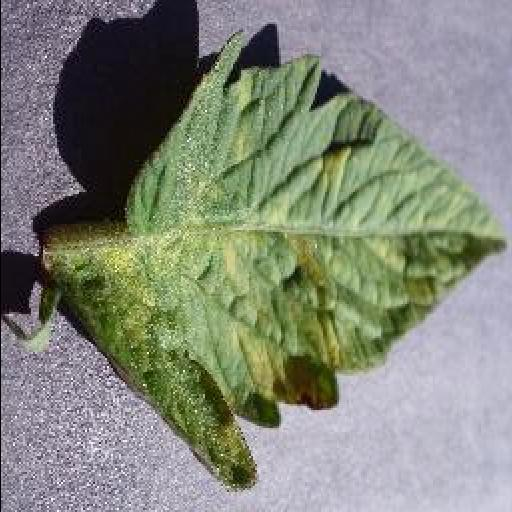disease_tomato: (64, 34, 508, 492)
